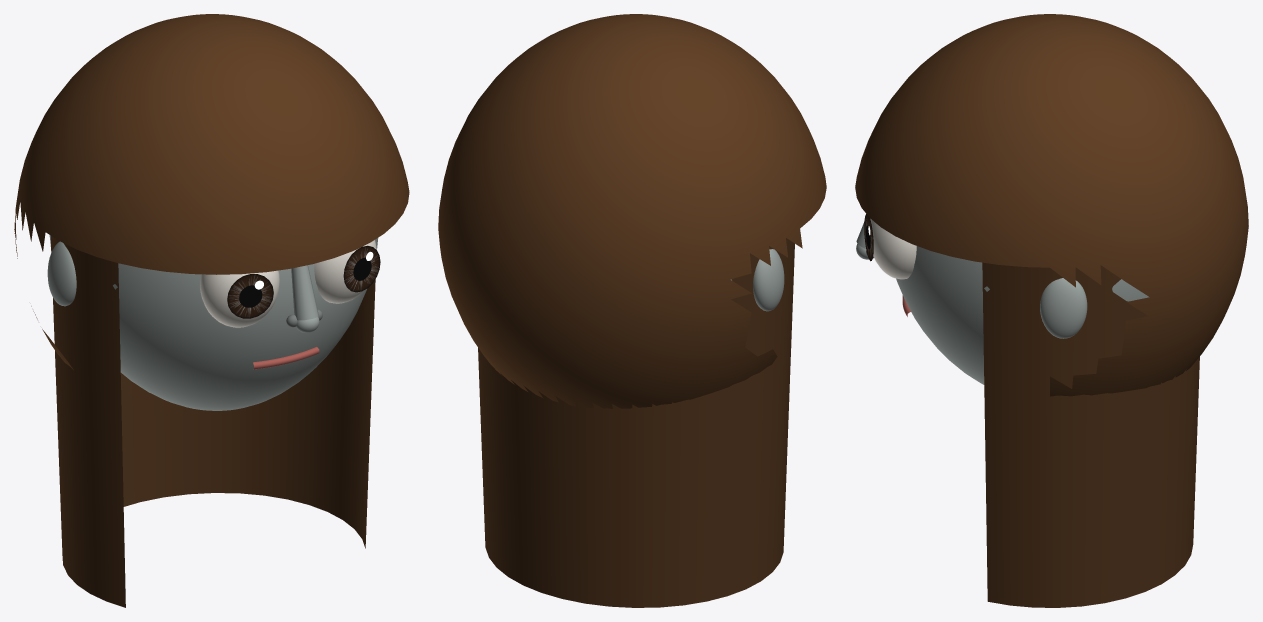
The model's file is autres-04-longs.glb.
3 renders of one model, left to right at view 1: azimuth 30°, elevation 25°; view 2: azimuth 150°, elevation 25°; view 3: azimuth 270°, elevation 25°, orthographic.
Size of what is drawn, in the model's own units: 0.3403 by 0.5005 by 0.3475.
11 materials, 1 textured.
